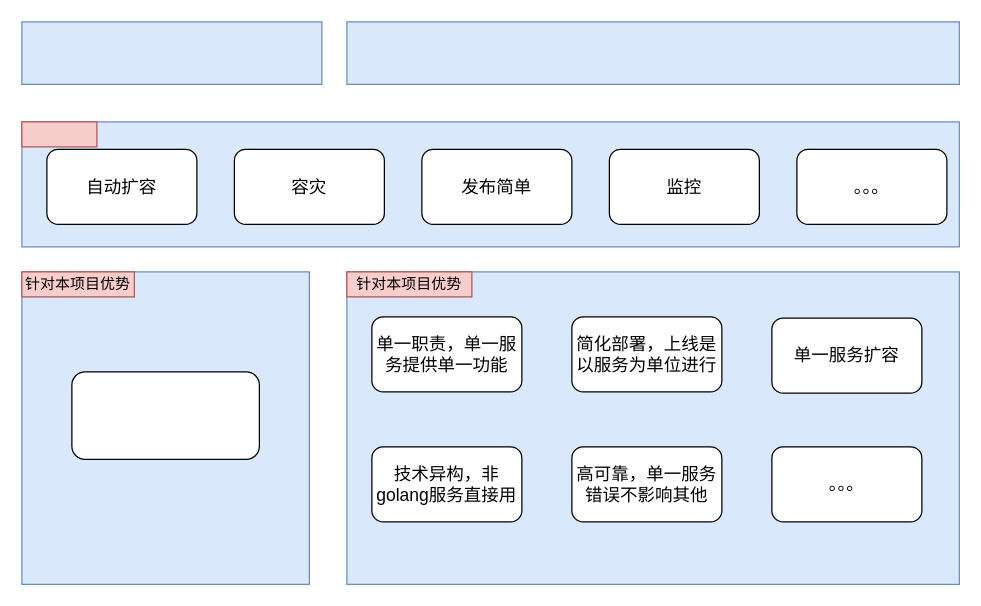
This 981x606 diagram has some shape labels left out. Here are the shapes that lost their labels. From the top down, the box of each, then its label:
(21, 21, 322, 84): sumeru
(346, 21, 959, 84): taf平台
(21, 121, 97, 147): 公共优点
(71, 371, 259, 459): 直接迁移，学习成本低，开发成本少
